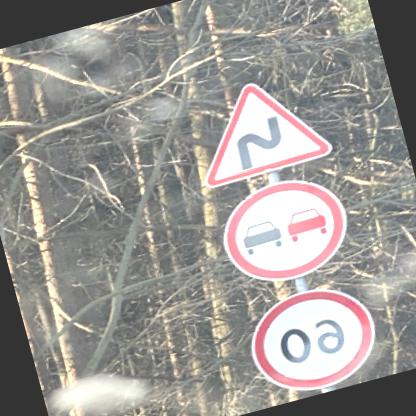speedlimit: (243, 275, 389, 401)
